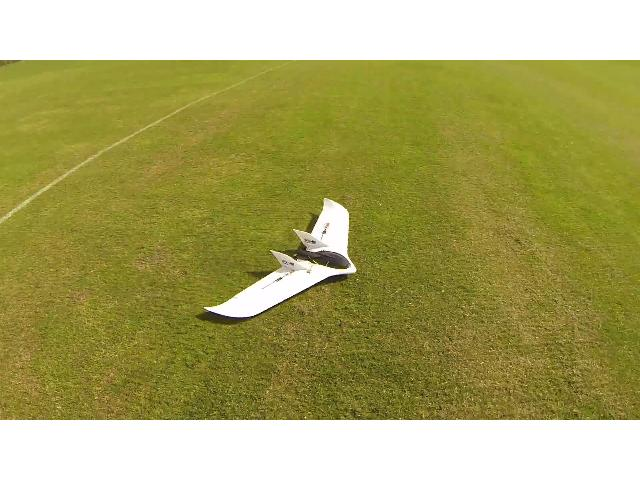Anti-Drone: (194, 193, 386, 328)
